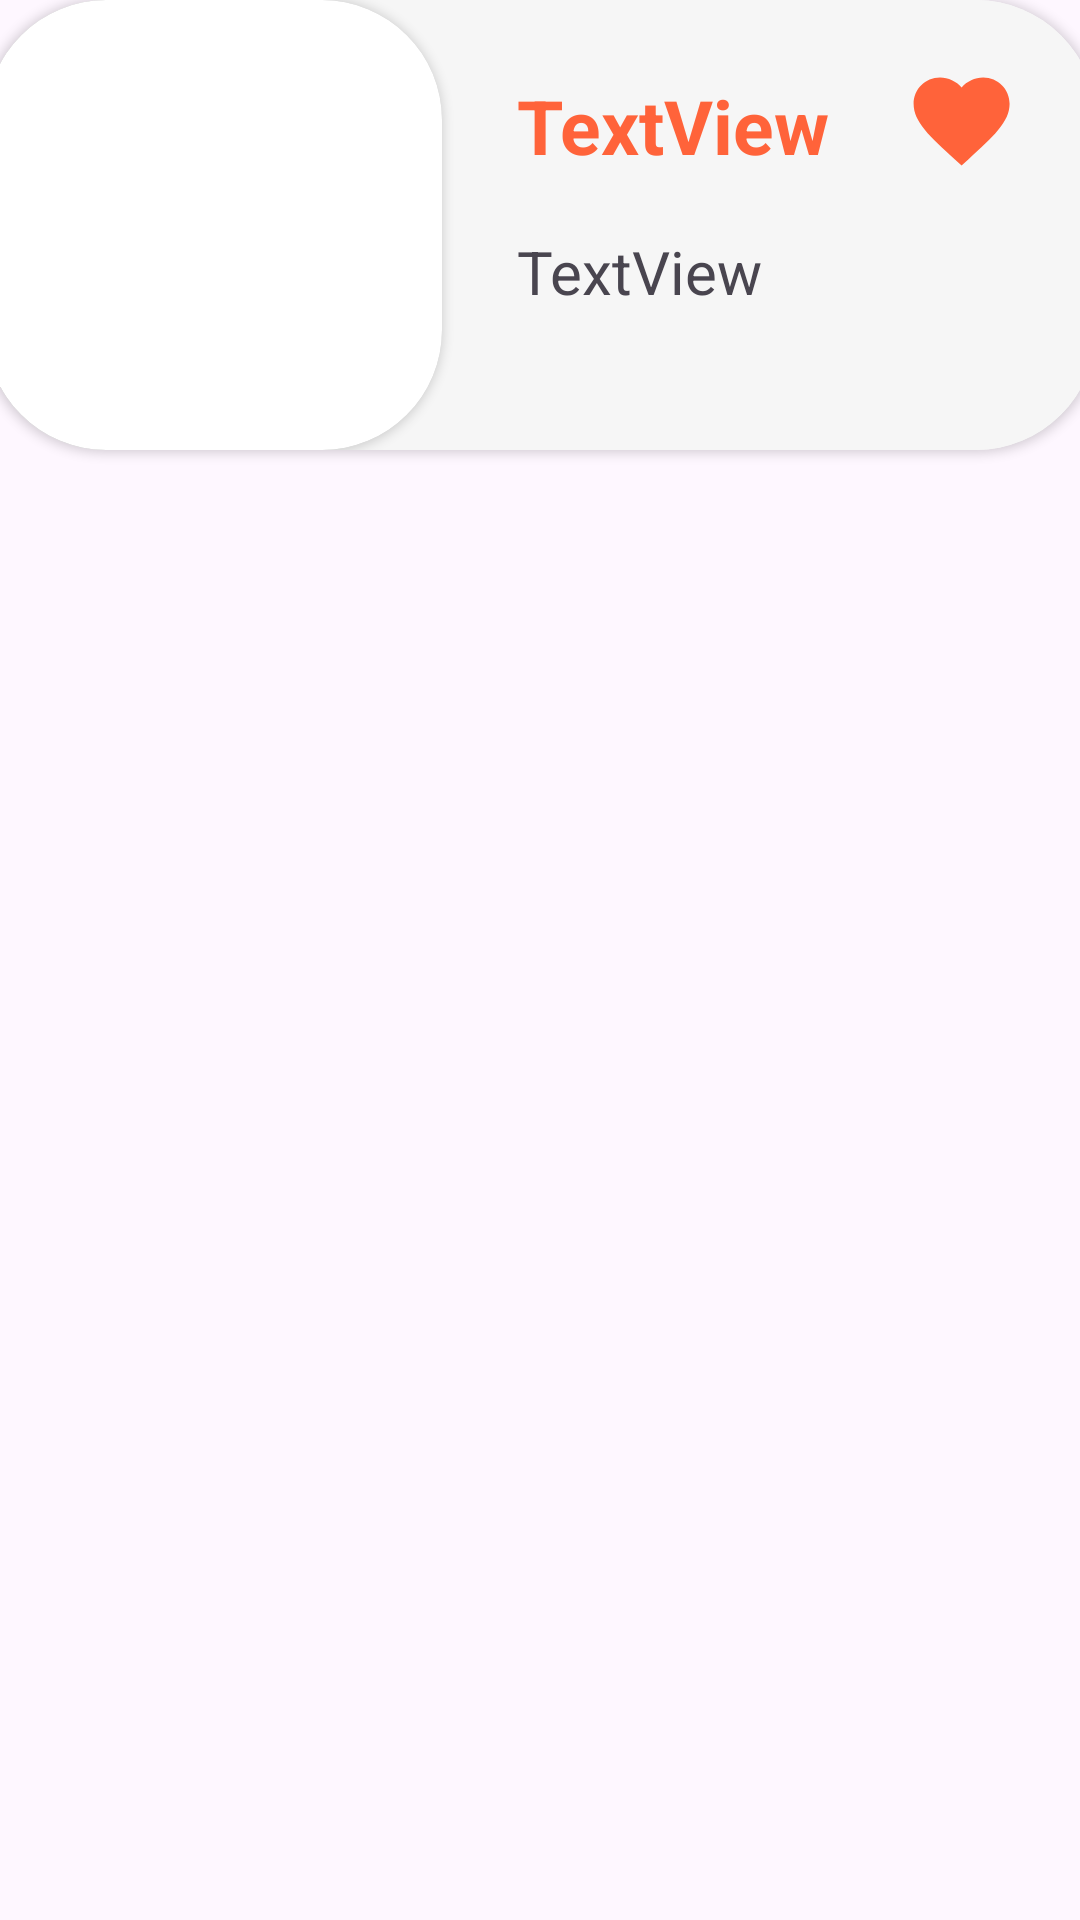

Where icons sit on this 1080x1920 app screen, as (x1, y1, x2, y2):
favorite: (913, 77, 1010, 166)
